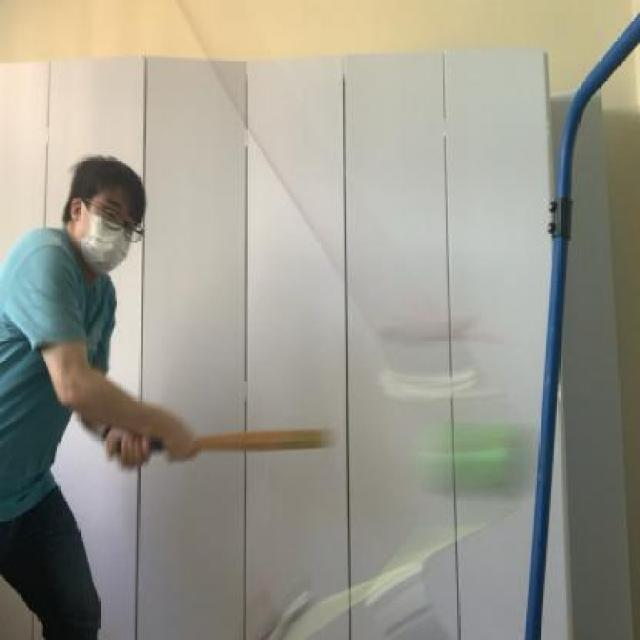baseball: (418, 412, 558, 510)
